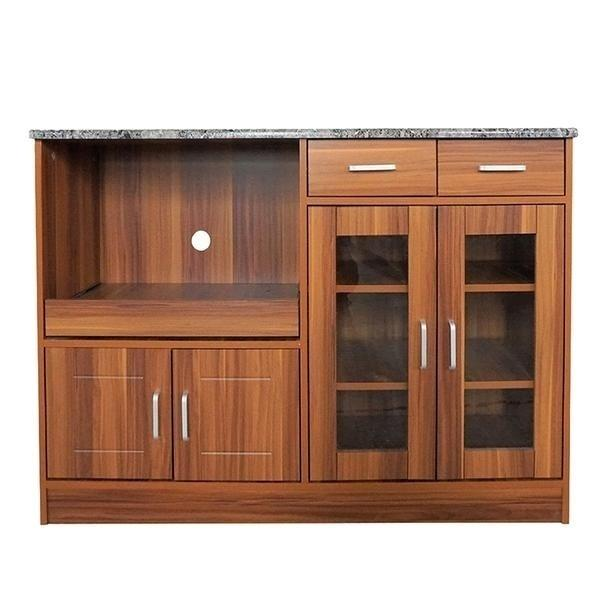cabinet_door: (310, 207, 432, 477), (443, 206, 564, 472), (50, 349, 176, 478), (176, 350, 302, 478), (309, 144, 437, 199), (442, 146, 568, 198)
handle: (345, 160, 401, 178), (474, 161, 530, 175), (150, 391, 164, 442), (418, 320, 431, 370), (178, 393, 190, 444), (447, 319, 458, 371)
